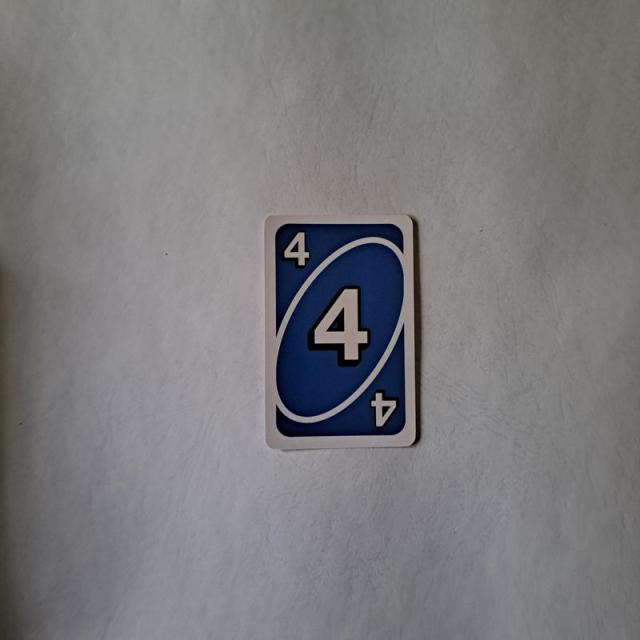Blue_Card: (272, 219, 408, 443)
Number_4: (282, 228, 313, 269)
